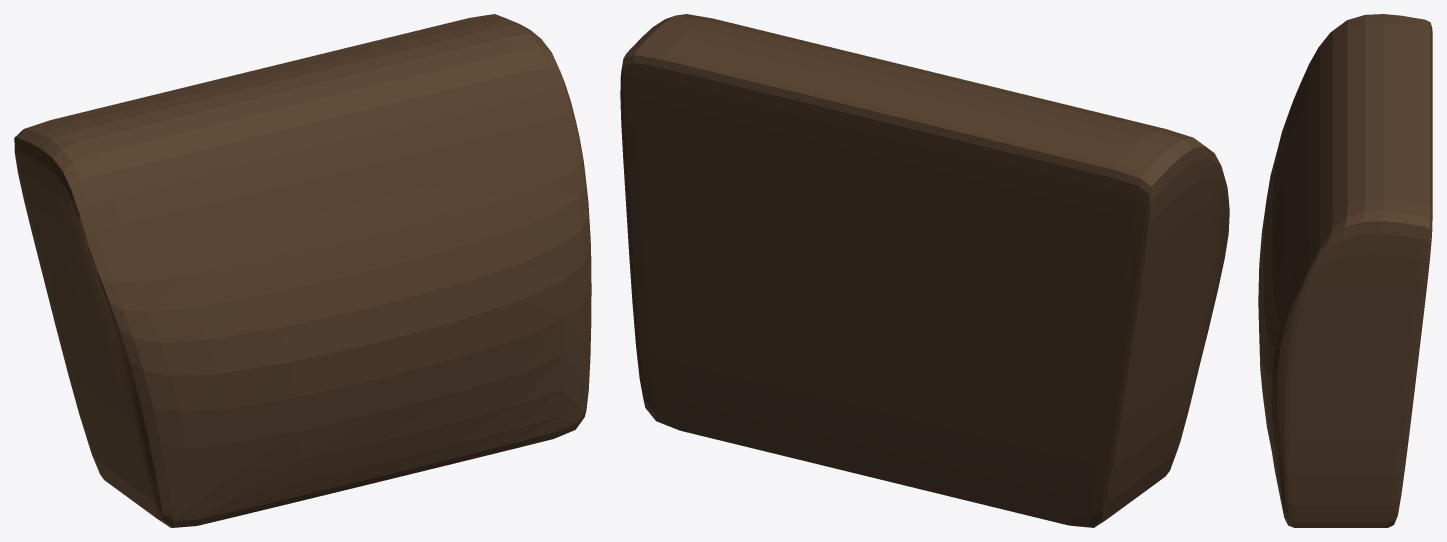
File: couch.dae
3 renders of one model, left to right at view 1: azimuth 30°, elevation 25°; view 2: azimuth 150°, elevation 25°; view 3: azimuth 270°, elevation 25°, orthographic. The views are drawn at different scales.
Visible parts, largest first — view 1: cushion_001; view 2: cushion_001; view 3: cushion_001.
Boxes of the visible parts, left/top/right/bottom form: cushion_001: left=14, top=14, right=591, bottom=527; cushion_001: left=620, top=14, right=1229, bottom=527; cushion_001: left=1258, top=14, right=1432, bottom=527.
Bounding box in the file's own units: 0.9121 × 0.3229 × 0.6571.
